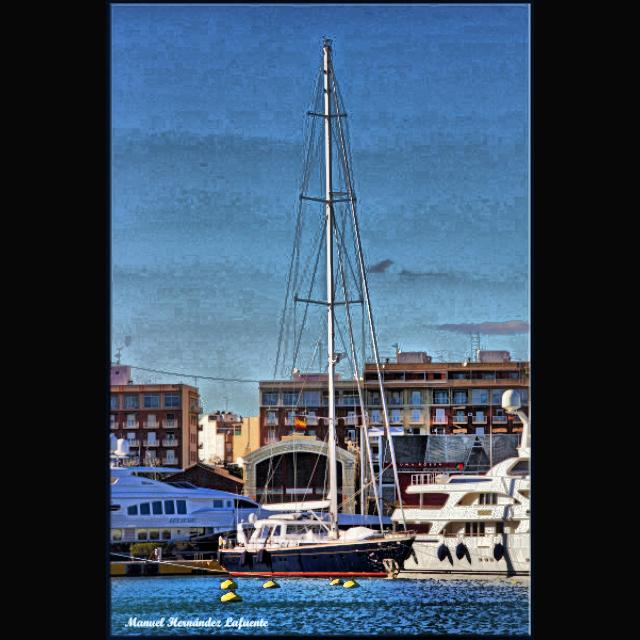buoy: (220, 589, 243, 603), (342, 576, 362, 590), (262, 578, 282, 590), (220, 578, 238, 590), (328, 578, 346, 586)
sailing_vessel: (217, 36, 417, 580)
